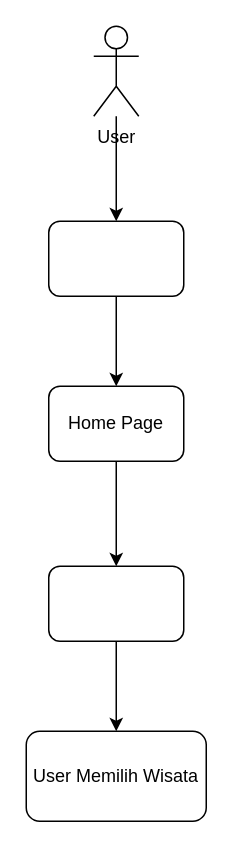
Image size: 233x860. Some labels were removed from this diagram. The shapes that lost their labels are listed below. From the top down, each one's centre as x and y in pixels, then its label:
At point (115, 258): "Akses Aplikasi".
At point (115, 603): "List Destinasi Wisata".
